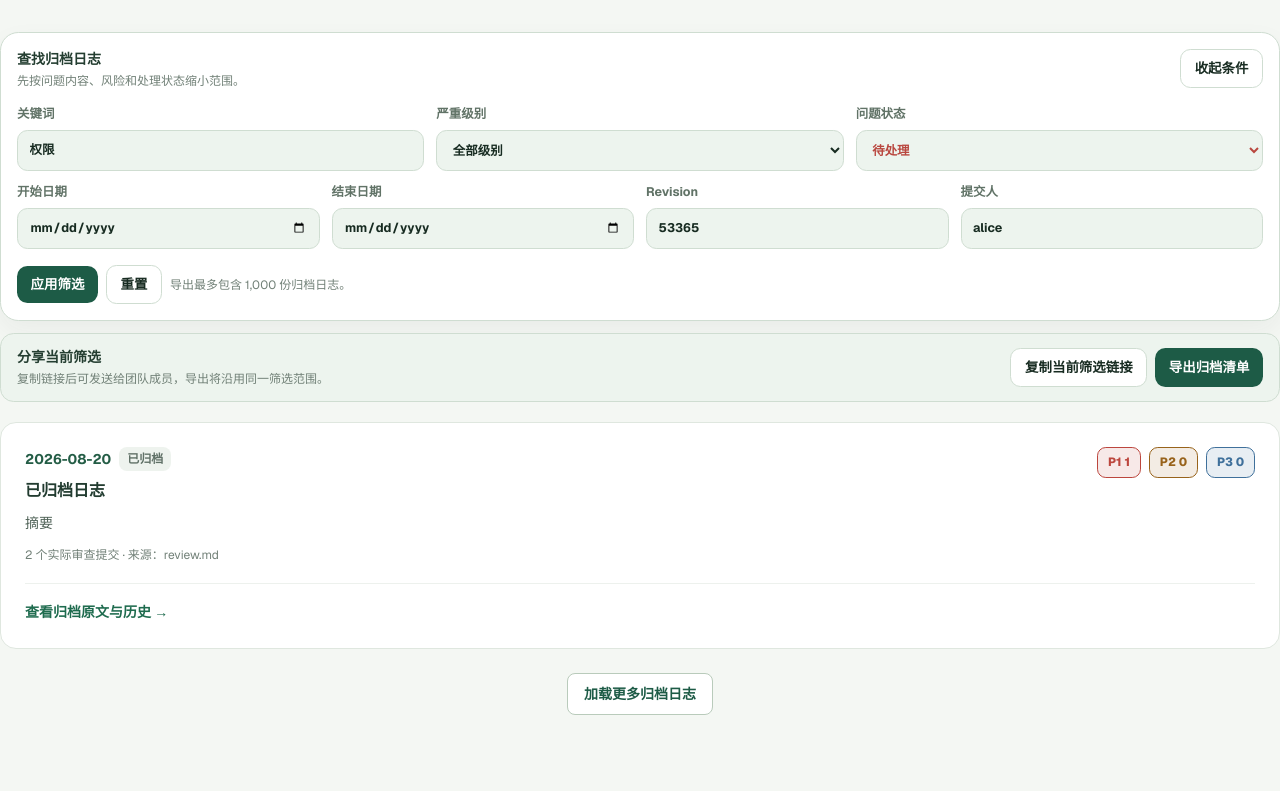
Test case: 归档库与归档管理 UI › 归档库加载更多时保留归档范围和当前筛选
This screenshot has width=1280, height=791.
Click the button "加载更多归档日志" at (640, 694), box [567, 673, 713, 715]
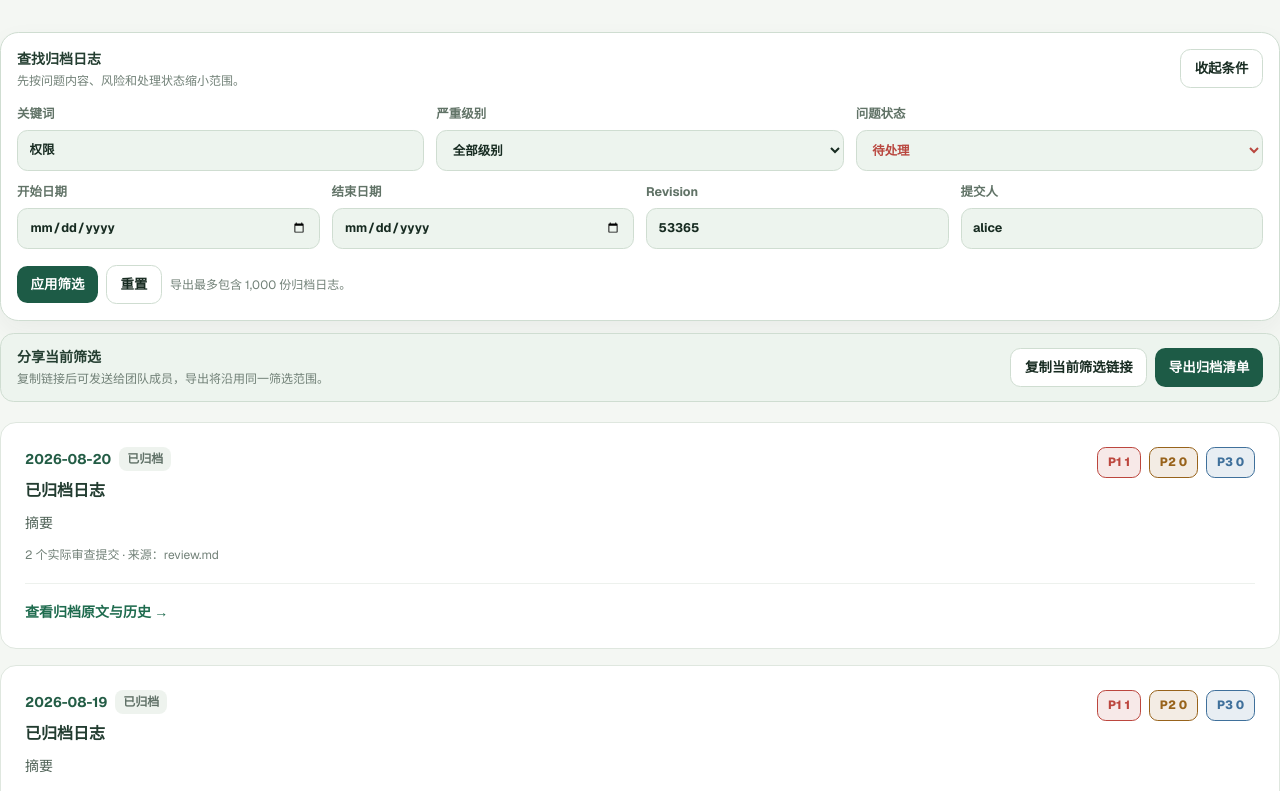
Expected: the text "2026-08-19" is shown, [25, 692, 107, 712]
